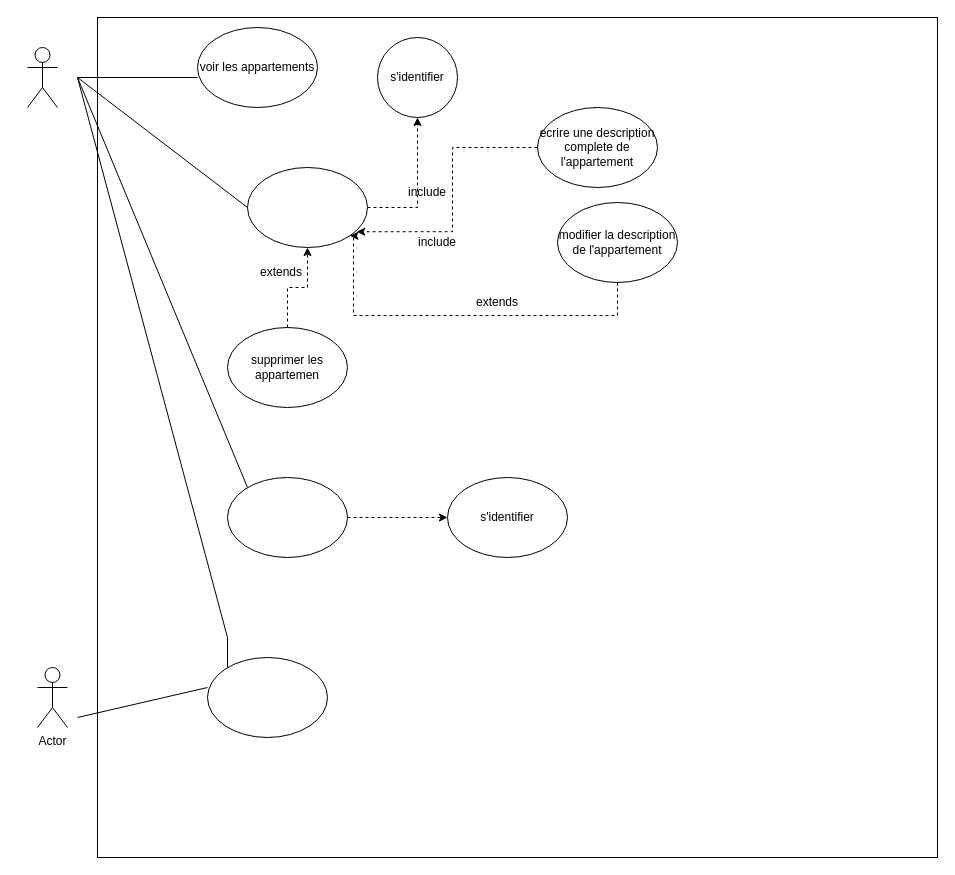
This 955x875 diagram has some shape labels left out. The centre of each missing label's shape, as x and y in pixels:
"envoyer des messages" belongs at (x=267, y=697).
"publier des appartements" belongs at (x=307, y=207).
"utilisateur" belongs at (x=42, y=77).
"voir le numéro de proprietére" belongs at (x=287, y=517).
